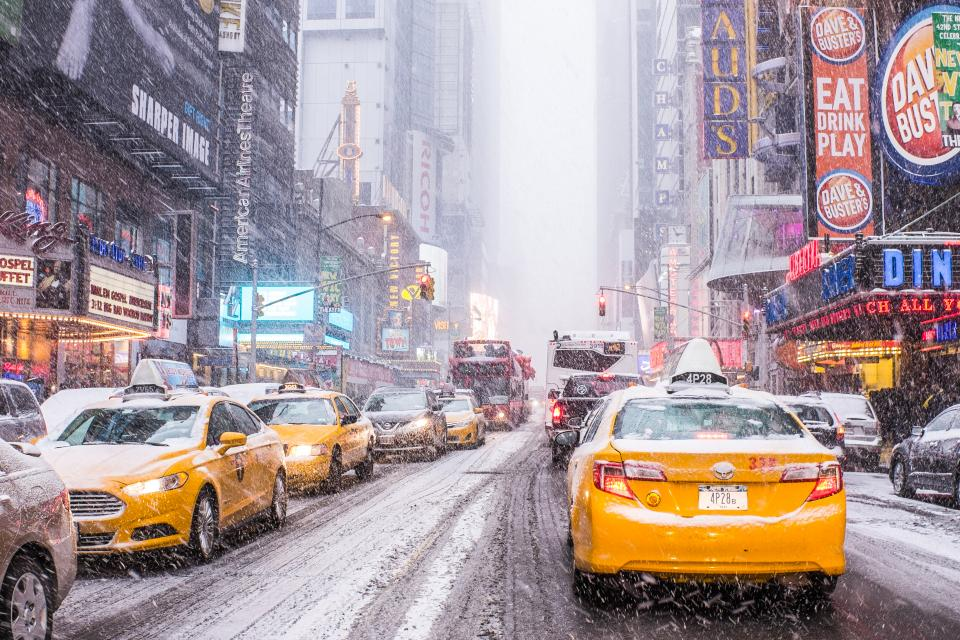car: (564, 384, 850, 610), (35, 396, 290, 564), (247, 384, 376, 491), (362, 385, 451, 464)
traffic light: (597, 287, 609, 319)
